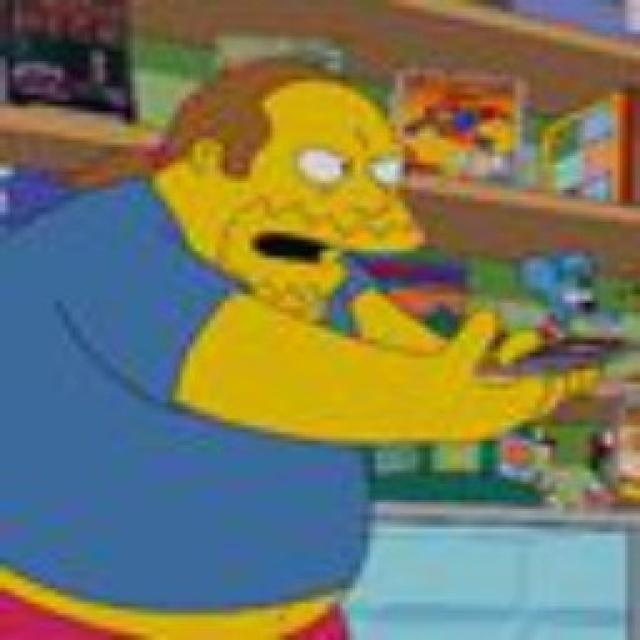Comic Book Guy: (115, 54, 435, 317)
